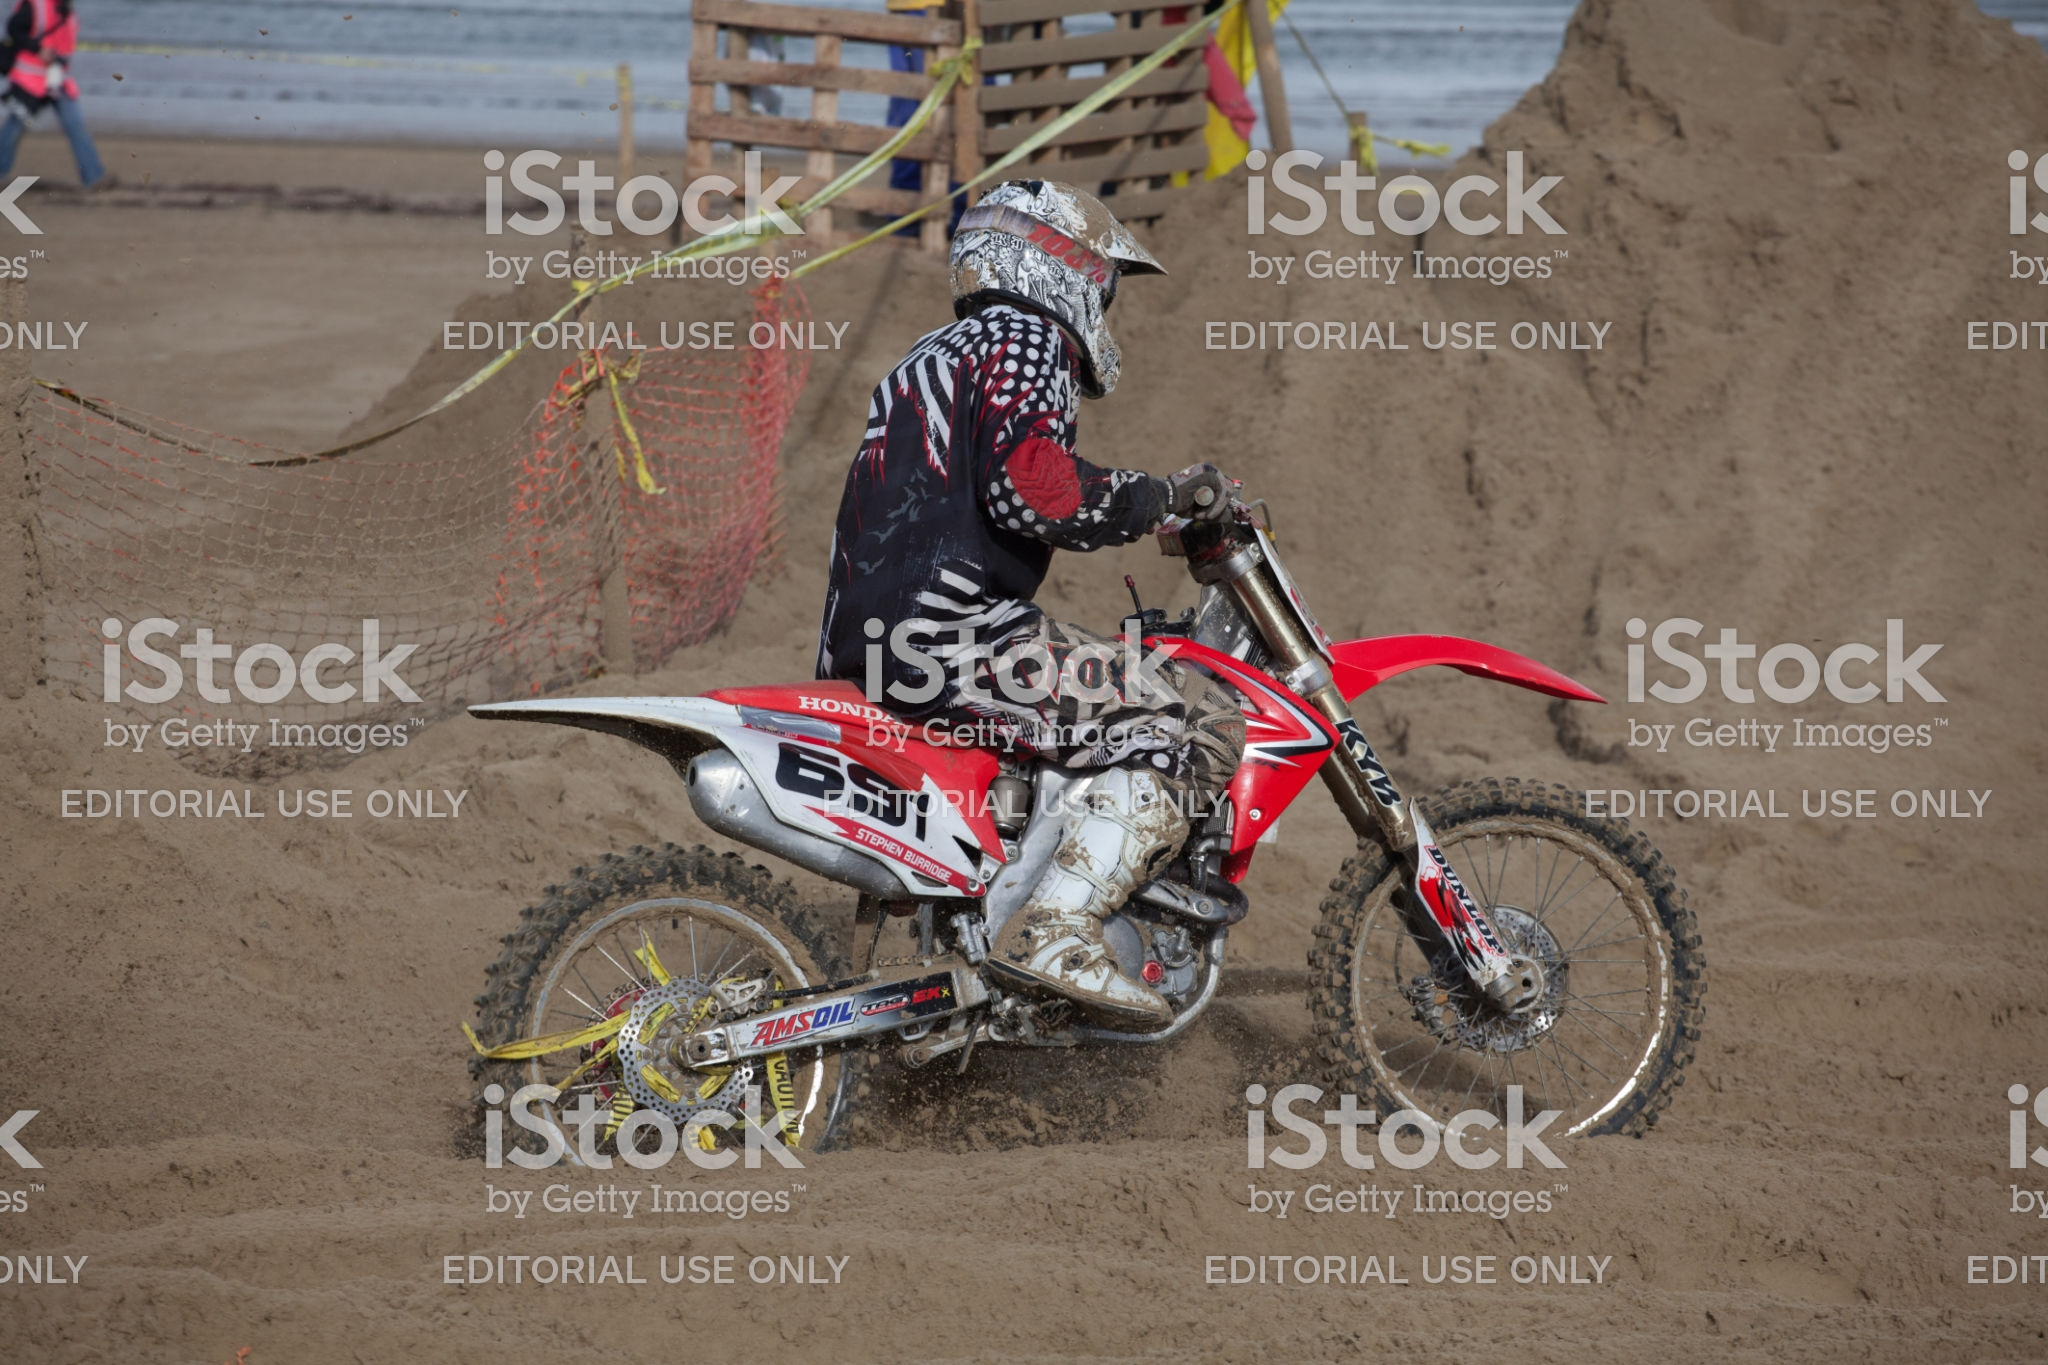helmet: (961, 165, 1159, 379)
